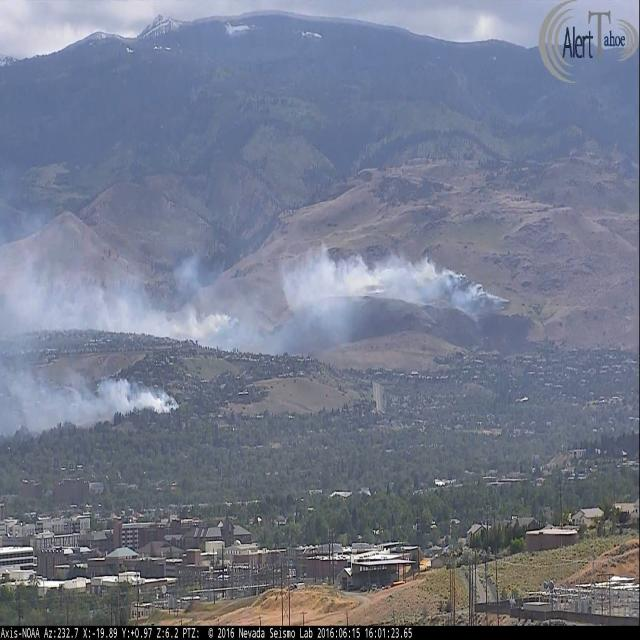smoke: (0, 222, 270, 355), (280, 238, 510, 355), (0, 354, 181, 441)
